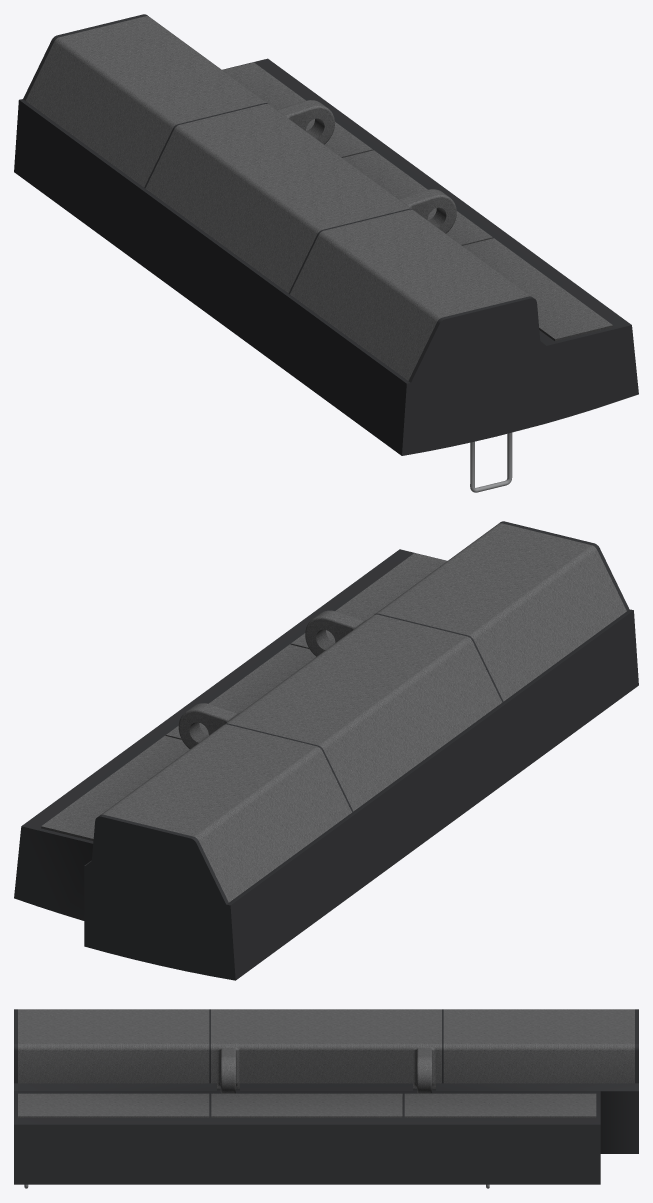
The model's file is sag-shell-liner-composite.glb.
The picture shows the model from 3 angles, top to bottom: view 1: azimuth 30°, elevation 25°; view 2: azimuth 150°, elevation 25°; view 3: azimuth 270°, elevation 25°; orthographic projection. The views are drawn at different scales.
Parts seen in each view (by area): view 1: compositeInsert, composite, bolt; view 2: compositeInsert, composite; view 3: compositeInsert, composite.
Boxes of the visible parts, bbox=[...] form: compositeInsert: bbox=[25, 16, 612, 380]; composite: bbox=[14, 14, 638, 455]; bolt: bbox=[470, 432, 512, 492]; compositeInsert: bbox=[41, 523, 626, 902]; composite: bbox=[14, 521, 638, 980]; compositeInsert: bbox=[18, 1009, 634, 1117]; composite: bbox=[14, 1009, 638, 1184].
Bounding box in the file's own units: 0.5733 × 0.435 × 1.62.
3 materials, 1 textured.
